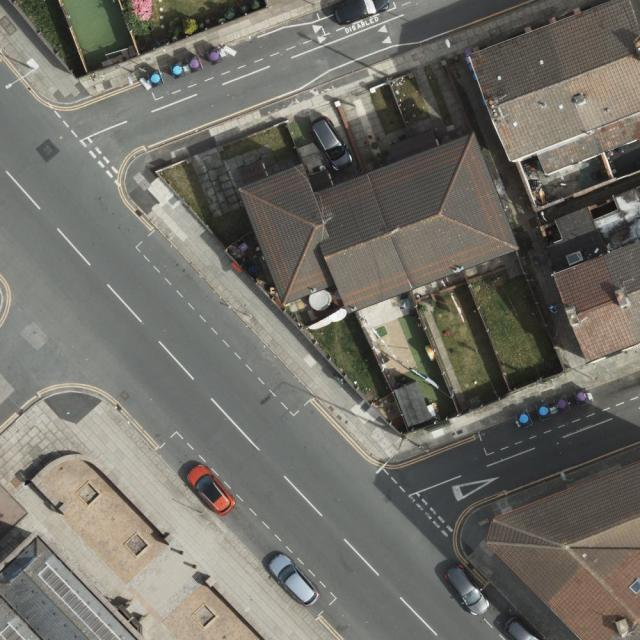roof: (237, 131, 519, 315), (467, 0, 640, 176), (488, 462, 640, 640), (0, 535, 139, 640), (548, 208, 640, 364)
skylight: (566, 252, 586, 266), (631, 579, 638, 596)
